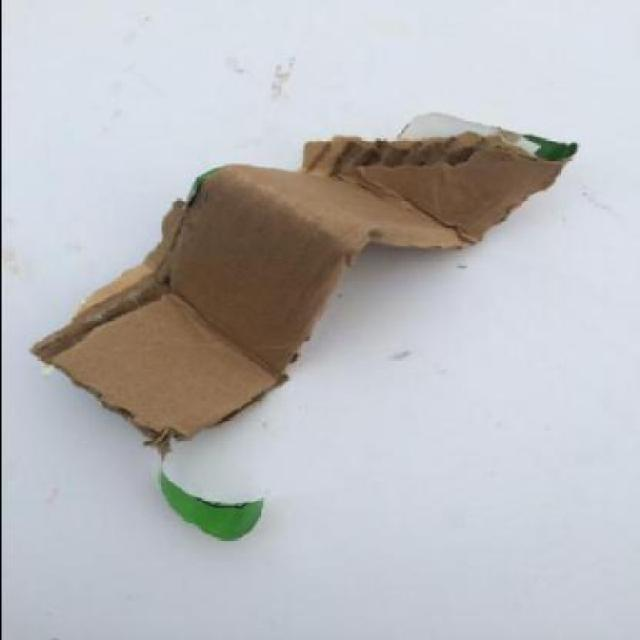CARDBOARD: (26, 111, 580, 438), (143, 165, 465, 370), (28, 265, 292, 438), (296, 112, 578, 239)
